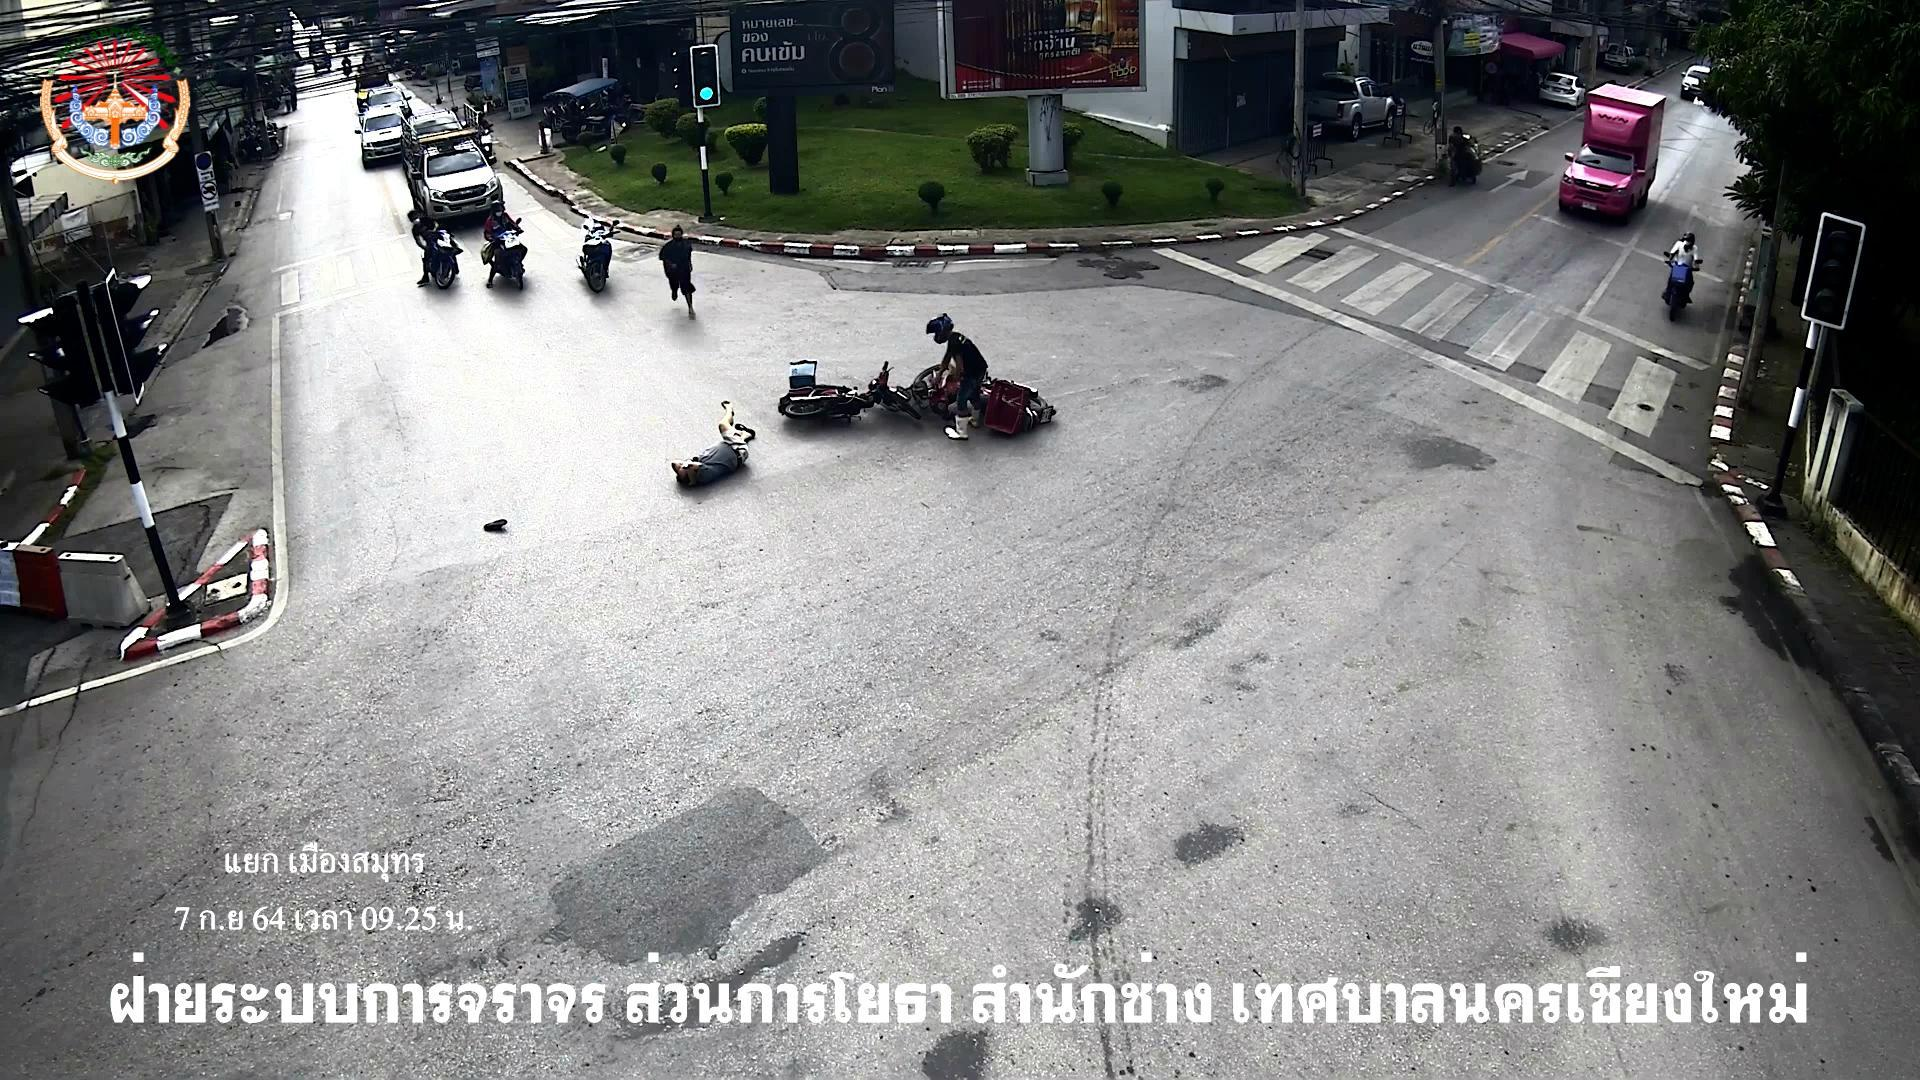accident: (659, 402, 767, 496)
